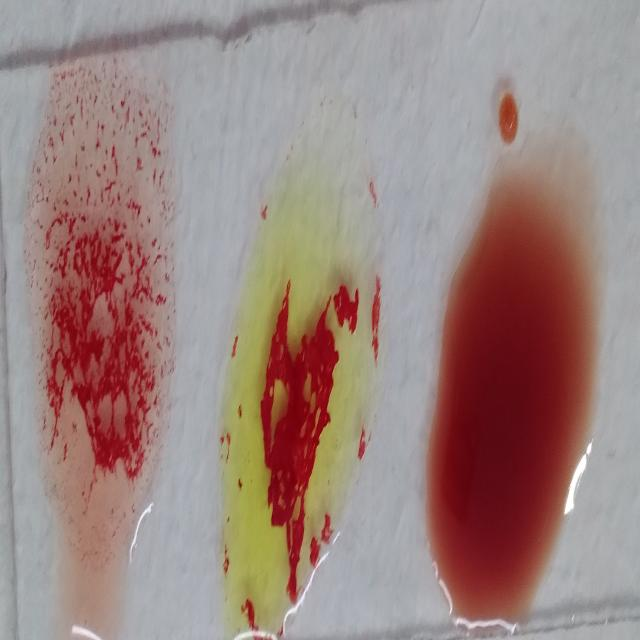B: (219, 134, 384, 634)
D: (28, 62, 176, 585)
